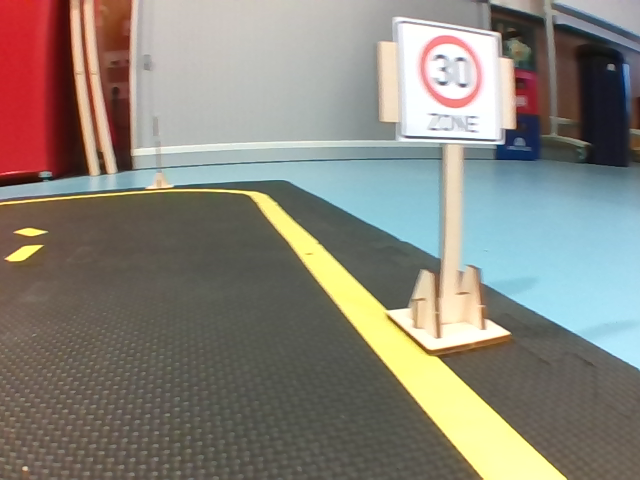stop: (33, 1, 274, 172)
